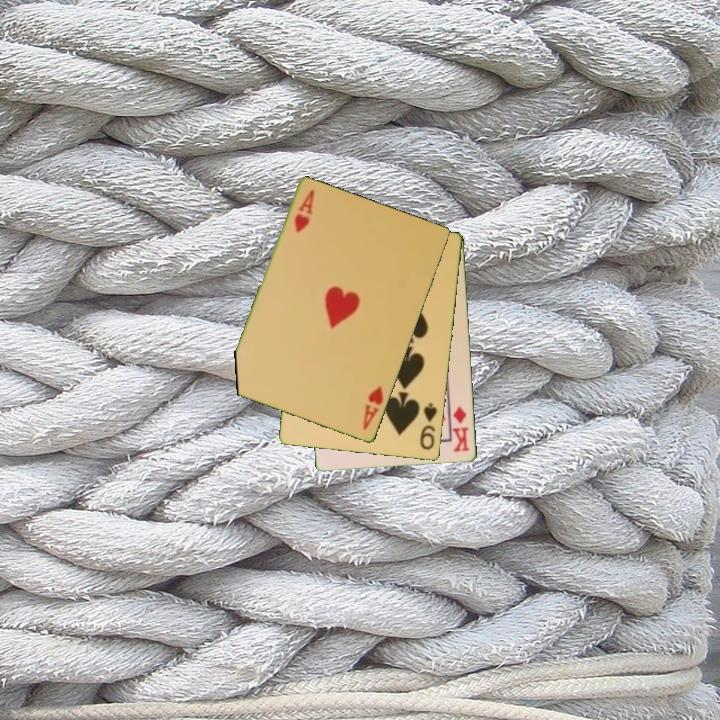9s: (417, 400, 440, 453)
Ah: (359, 382, 386, 433), (291, 186, 317, 237)
Kd: (449, 403, 472, 455)
